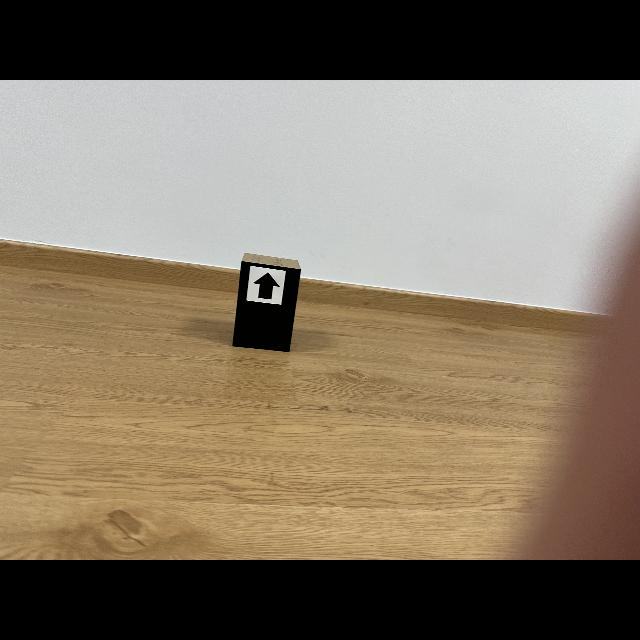UP: (253, 272, 280, 300)
